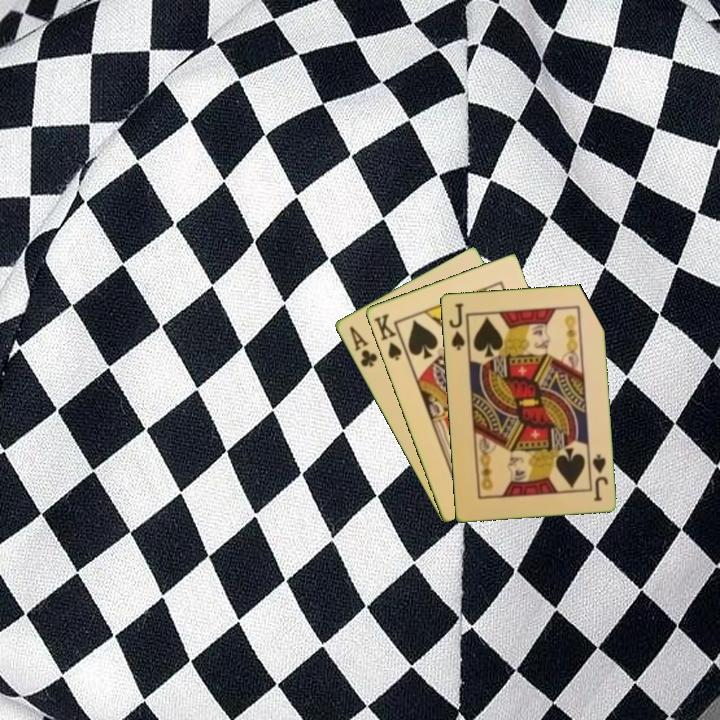Ac: (345, 323, 380, 370)
Js: (445, 299, 467, 353), (589, 451, 611, 504)
Ks: (370, 310, 409, 363)
